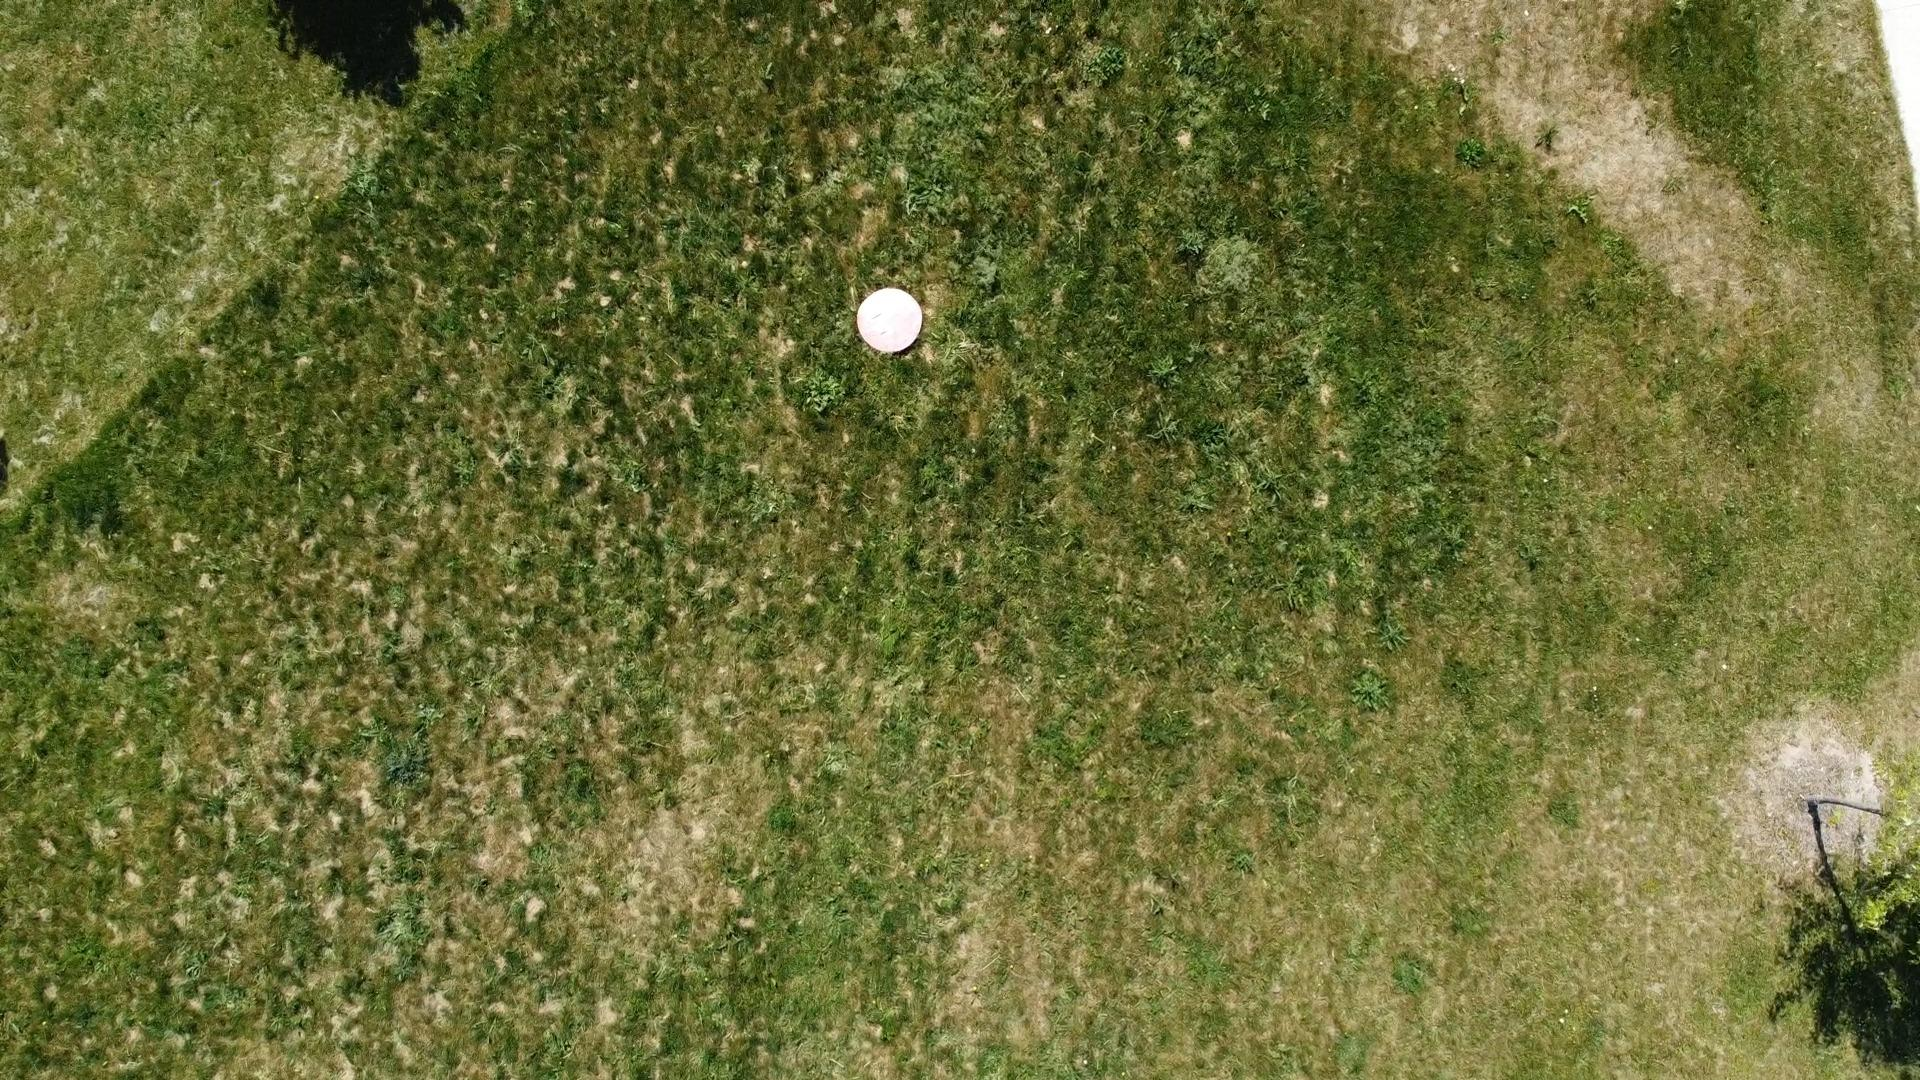Red: (855, 285, 924, 355)
